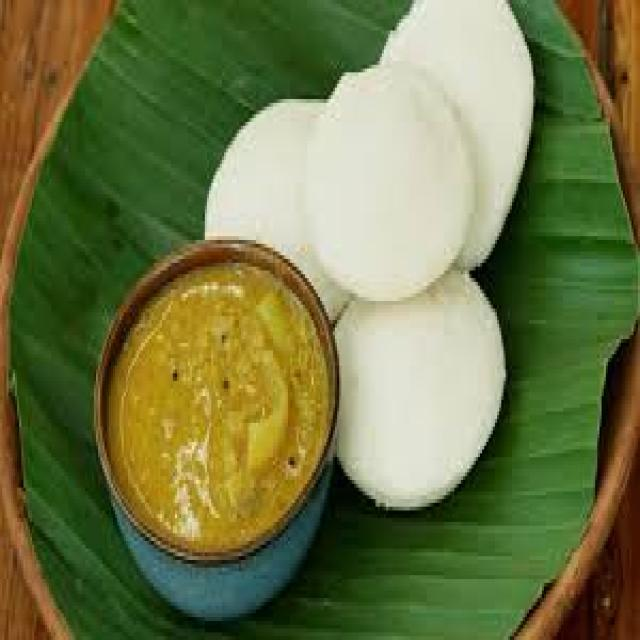IDLI: (335, 270, 503, 507), (380, 0, 531, 263), (307, 61, 474, 297), (205, 99, 348, 316)
